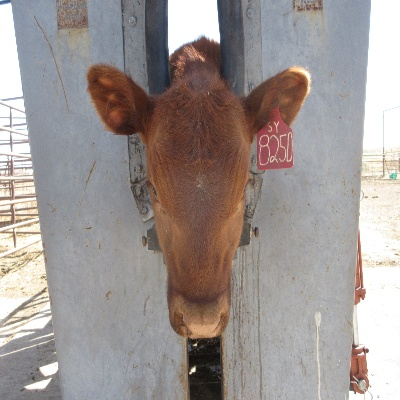fidget_spinner: (169, 303, 231, 341)
